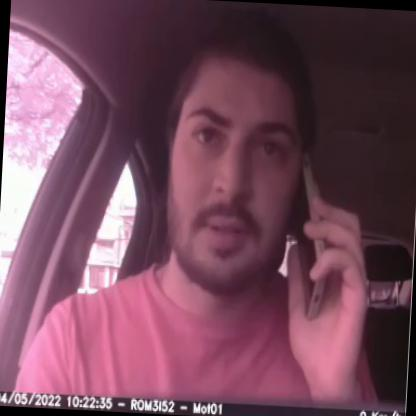phone: (273, 140, 339, 332)
